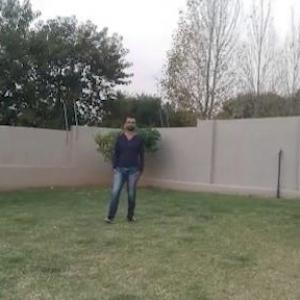follow: (112, 114, 140, 222)
